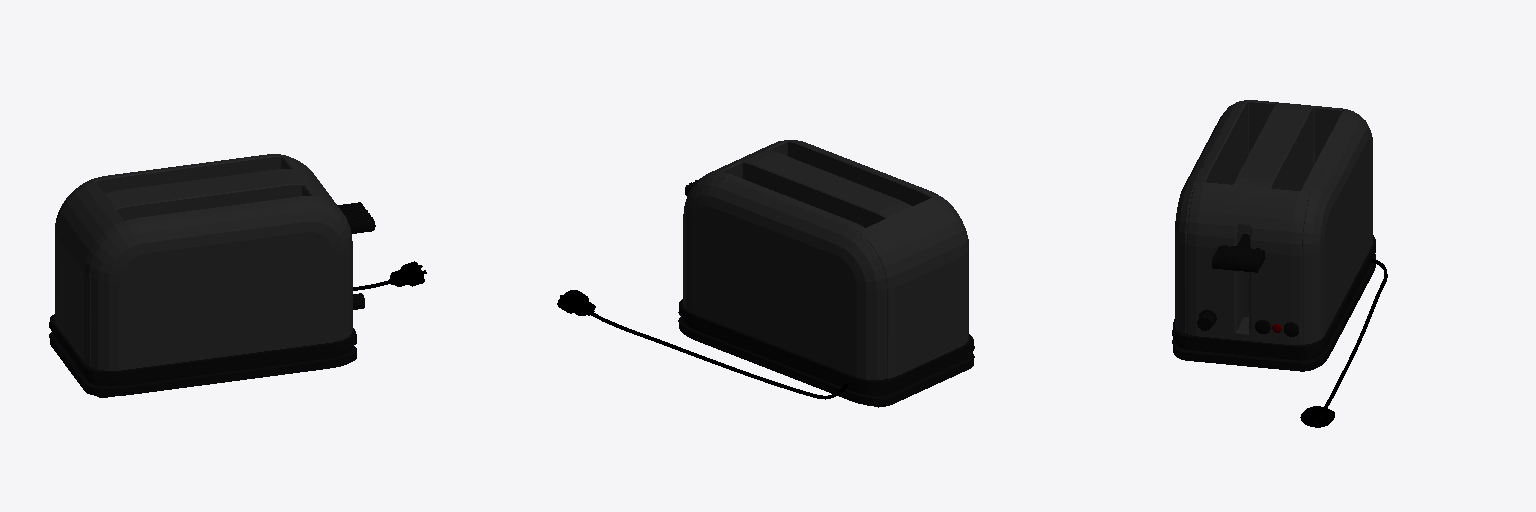
Rendered from toaster.obj.
3 views of the same model, side by side, from view 1: azimuth 30°, elevation 25°; view 2: azimuth 150°, elevation 25°; view 3: azimuth 270°, elevation 25° (orthographic).
Parts seen in each view (by area): view 1: polymsh_detached2, cube76, cube7, cube75, cylinder16; view 2: polymsh_detached2, cube76, cube7, cylinder, cylinder16; view 3: cube76, polymsh_detached2, cube7, cube75, cylinder, cylinder16.
Part boxes in pixels (left/top/right/bottom): polymsh_detached2: left=58, top=154, right=351, bottom=370; cube76: left=55, top=154, right=352, bottom=366; cube7: left=49, top=314, right=356, bottom=396; cube75: left=337, top=202, right=375, bottom=233; cylinder16: left=390, top=261, right=424, bottom=286; polymsh_detached2: left=683, top=140, right=968, bottom=379; cube76: left=694, top=140, right=966, bottom=378; cube7: left=678, top=299, right=974, bottom=406; cylinder: left=587, top=309, right=847, bottom=399; cylinder16: left=557, top=290, right=595, bottom=315; cube76: left=1186, top=100, right=1354, bottom=344; polymsh_detached2: left=1175, top=102, right=1372, bottom=344; cube7: left=1172, top=235, right=1375, bottom=371; cube75: left=1212, top=234, right=1264, bottom=272; cylinder: left=1324, top=259, right=1387, bottom=407; cylinder16: left=1300, top=406, right=1334, bottom=427.
Bounding box in the file's own units: 3.26 × 1.41 × 1.63.